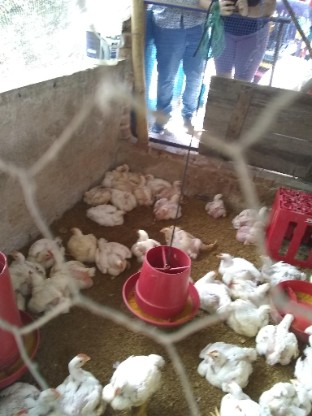Pollos: (102, 350, 181, 416), (55, 349, 105, 416), (199, 333, 260, 379), (0, 376, 58, 416), (257, 311, 302, 361), (219, 295, 273, 336), (212, 366, 255, 416), (22, 269, 63, 311), (161, 225, 206, 263), (54, 257, 97, 295), (255, 251, 303, 285), (193, 266, 229, 311), (258, 378, 299, 416), (217, 245, 259, 281), (96, 233, 129, 277), (26, 230, 67, 263), (67, 224, 99, 261), (227, 274, 273, 299), (5, 244, 31, 288), (87, 200, 129, 227), (131, 227, 161, 261), (154, 189, 185, 220), (237, 218, 268, 244), (78, 185, 109, 205), (107, 191, 137, 211), (206, 192, 227, 220), (143, 168, 167, 191), (237, 204, 273, 218), (123, 160, 141, 186), (172, 176, 189, 194), (107, 162, 124, 179)
